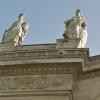Statue: (54, 5, 90, 59)
